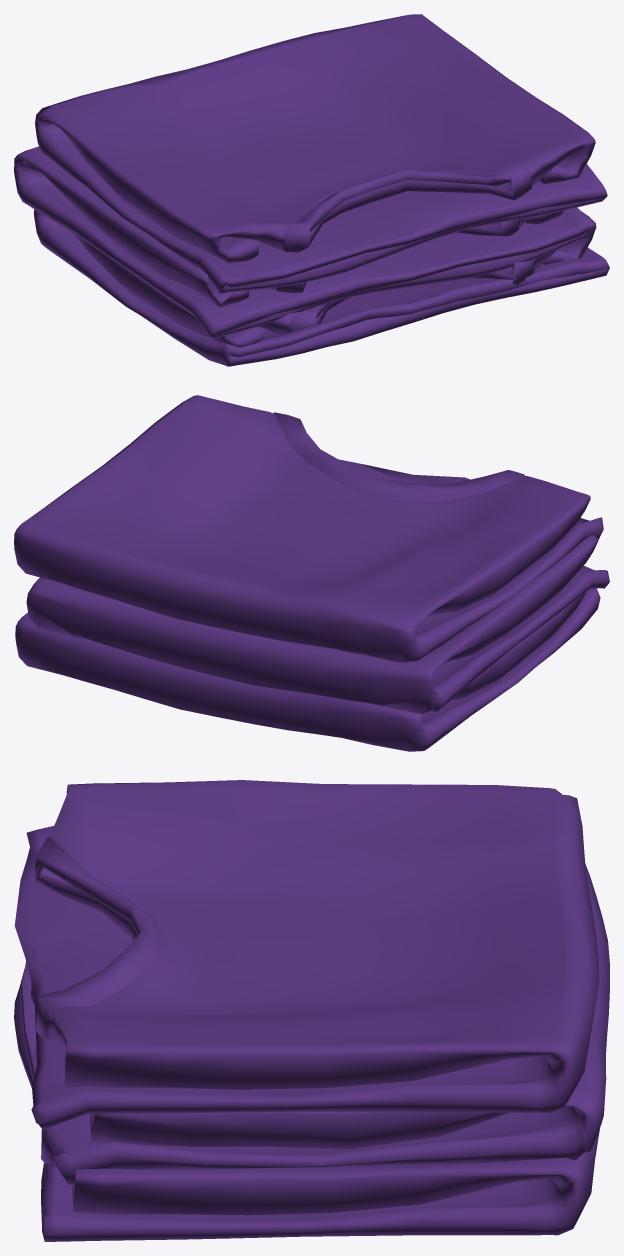
The model's file is Folded_T_Shirt03.fbx.
3 renders of one model, top to bottom at view 1: azimuth 30°, elevation 25°; view 2: azimuth 150°, elevation 25°; view 3: azimuth 270°, elevation 25°, orthographic. The views are drawn at different scales.
Parts seen in each view (by area): view 1: Folded_T_Shirt03; view 2: Folded_T_Shirt03; view 3: Folded_T_Shirt03.
Part boxes in pixels (left/top/right/bottom): Folded_T_Shirt03: left=14, top=14, right=609, bottom=366; Folded_T_Shirt03: left=14, top=395, right=609, bottom=751; Folded_T_Shirt03: left=14, top=780, right=609, bottom=1241.
Bounding box in the file's own units: 38.43 × 11.89 × 33.24.
